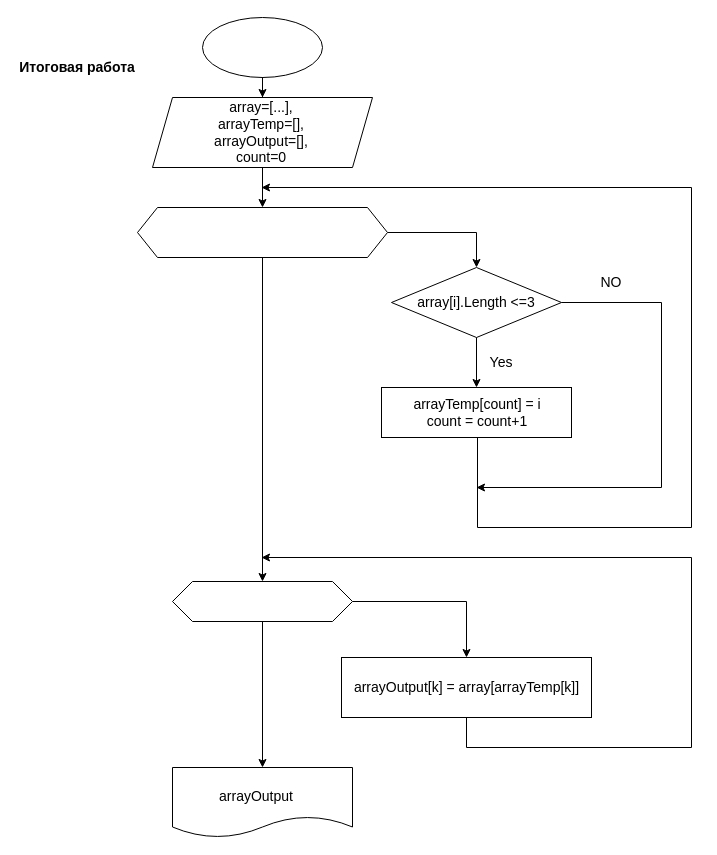
Image size: 717x855. Some labels were removed from this diagram. Here are the shapes that lost their labels. From the top down, the box of each, then its label:
(202, 16, 322, 78): Start
(136, 206, 388, 258): i = 0, array.Length - 1, 1
(172, 580, 352, 622): k = 0, count - 1, 1
